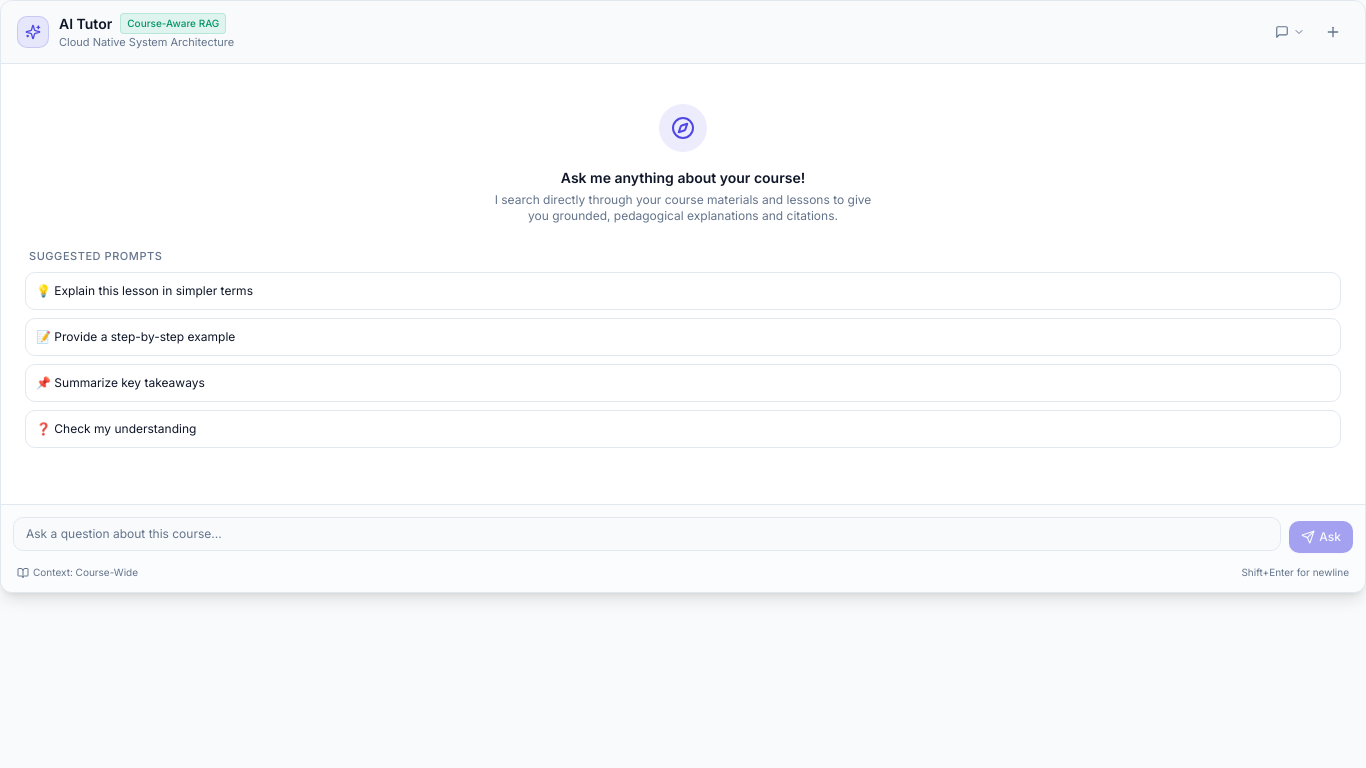
Phase 7: AI Tutor Frontend Experience › renders ungrounded indicator when course content does not cover the question
Type "Tell me about quantum computing" into the text box with test id "ai-tutor-input" at (647, 534), box x1=13 y1=517 x2=1281 y2=551
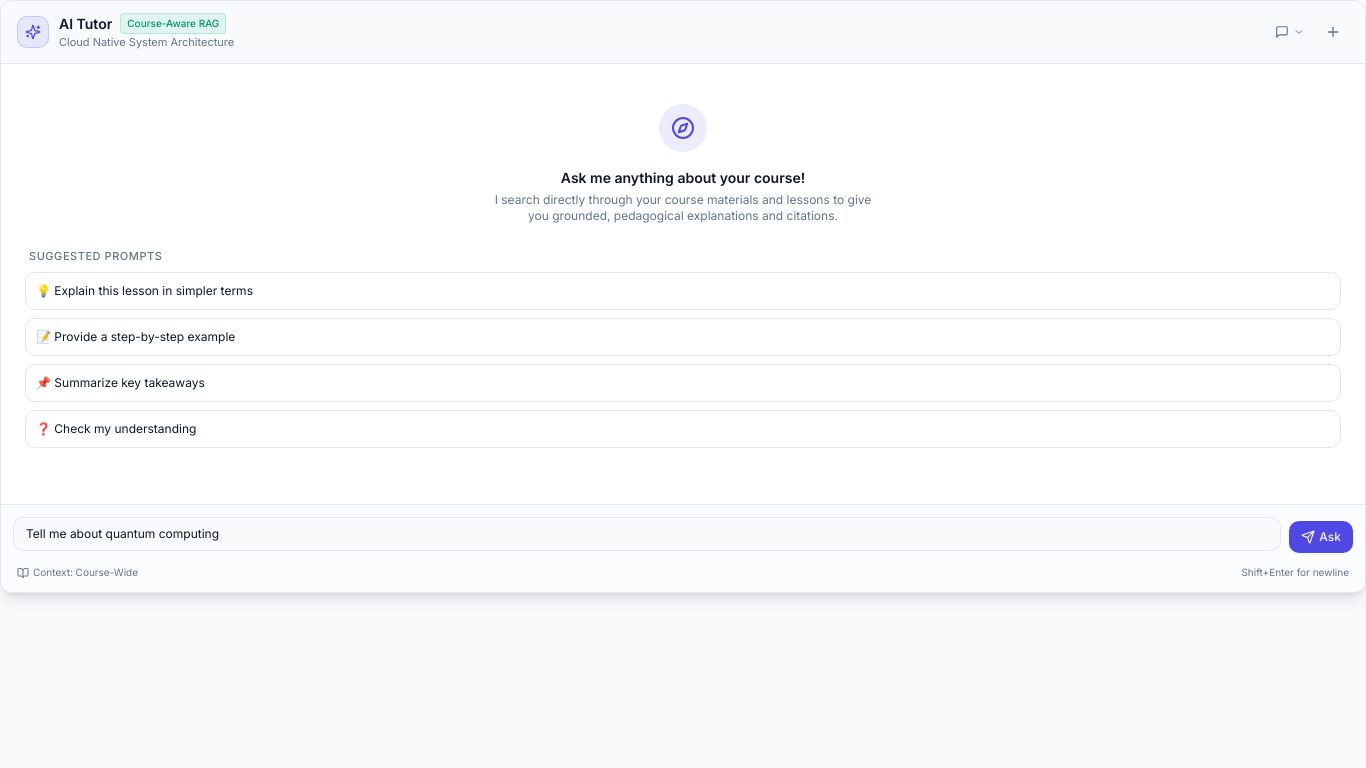
Click the button with test id "send-question-btn" at (1321, 537), box x1=1289 y1=521 x2=1353 y2=553
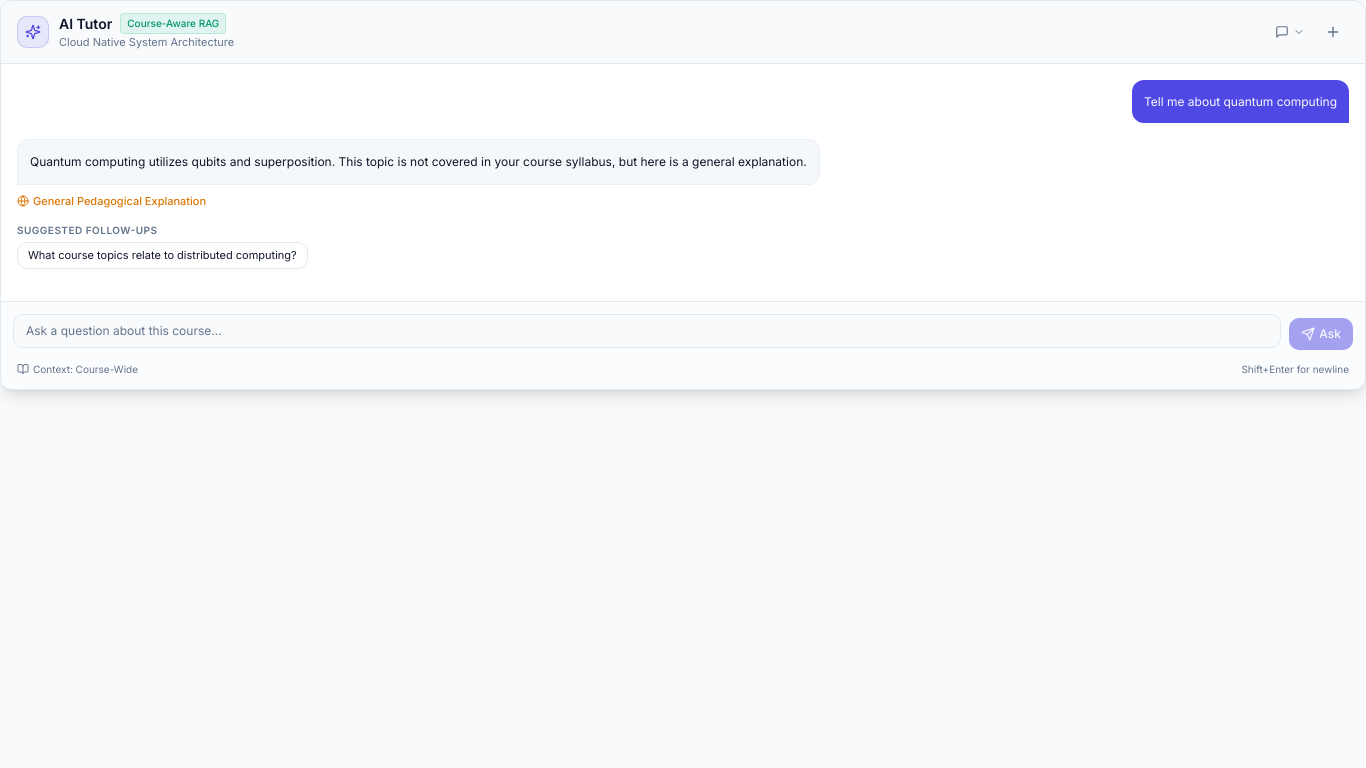
Check: the element with test id "ungrounded-badge" is shown, box x1=17 y1=192 x2=206 y2=209
Check: the text "Quantum computing utilizes qubits" is shown, box x1=30 y1=154 x2=807 y2=169
